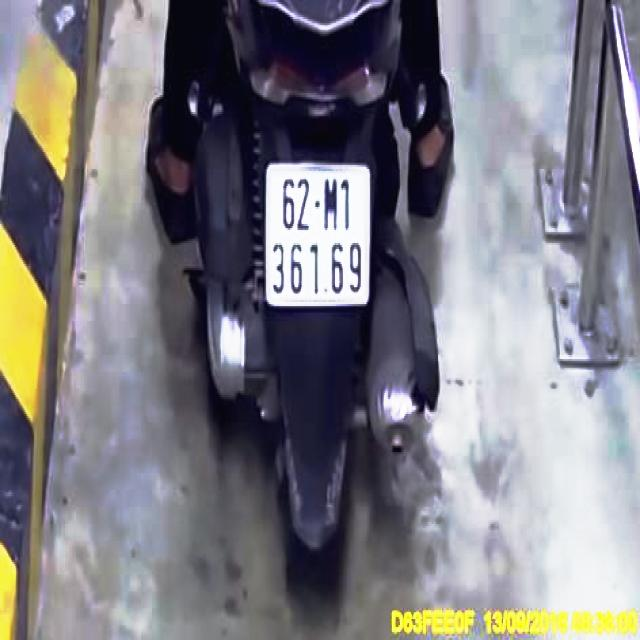license_plate: (269, 164, 369, 306)
